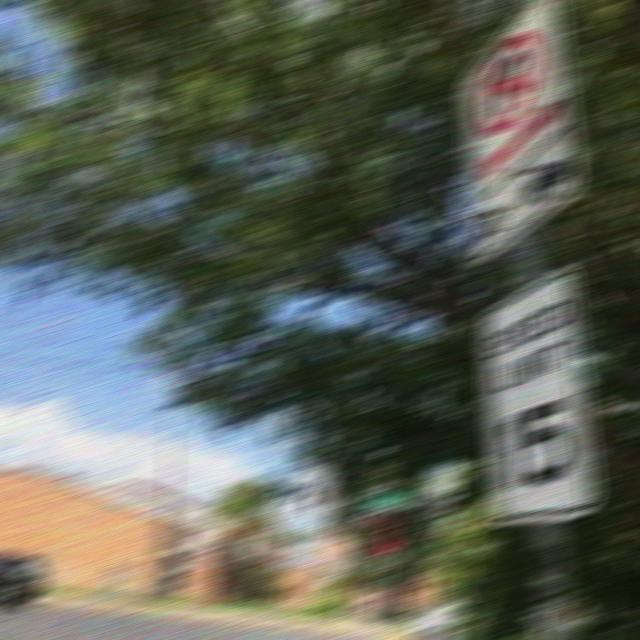speedLimit15: (478, 301, 599, 507)
